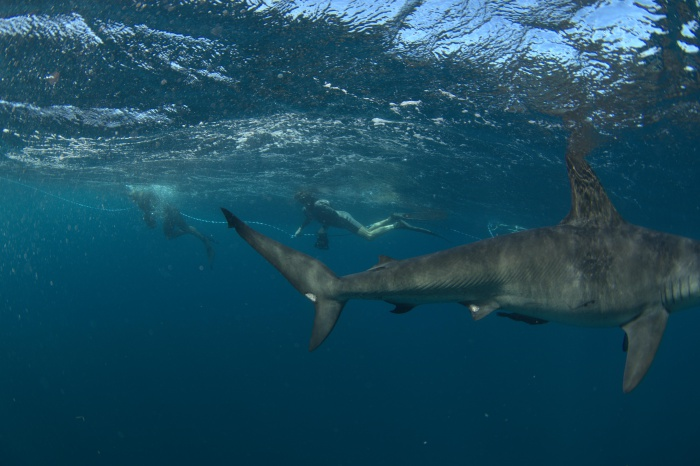Hammer: (216, 158, 700, 396)
